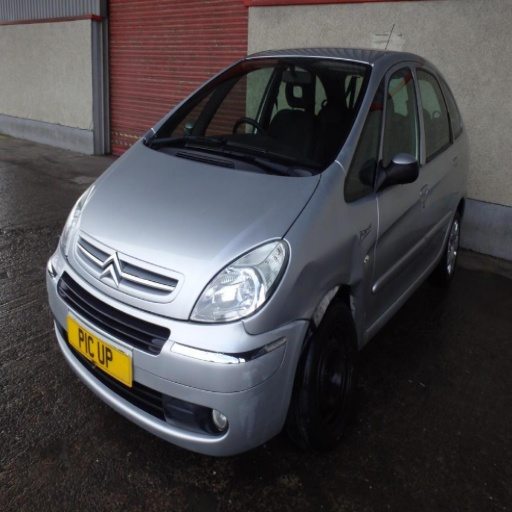dent: (274, 258, 327, 329), (342, 236, 365, 342)
scratch: (239, 368, 267, 438)
